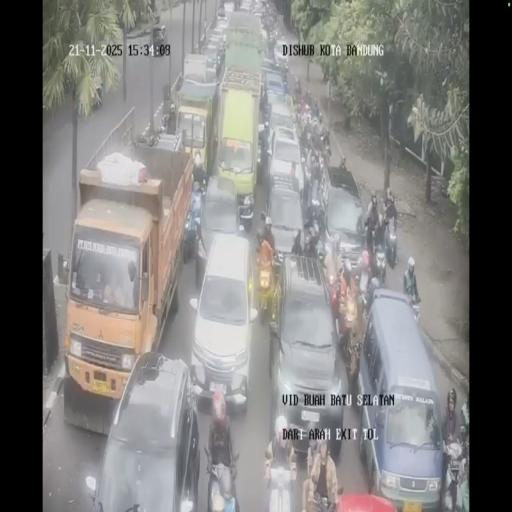3: (173, 71, 219, 183), (222, 7, 264, 79)
car: (356, 289, 442, 500), (89, 350, 200, 508), (268, 258, 344, 454), (195, 172, 244, 285), (322, 170, 366, 271), (263, 180, 306, 268), (267, 101, 297, 149), (204, 28, 228, 74), (262, 66, 288, 108), (275, 39, 291, 71), (152, 24, 168, 56), (252, 2, 264, 20), (238, 0, 252, 14)
truck: (204, 440, 241, 509), (265, 453, 297, 512), (442, 433, 466, 511), (182, 187, 200, 264), (306, 173, 324, 227), (371, 240, 388, 288), (385, 220, 399, 266), (364, 215, 378, 255), (409, 292, 421, 324), (266, 28, 277, 57), (319, 127, 330, 155)
